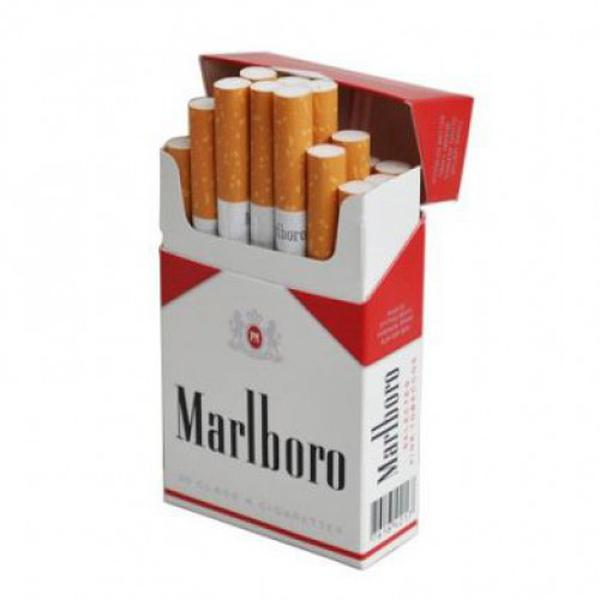marlboro_red: (162, 204, 362, 504)
